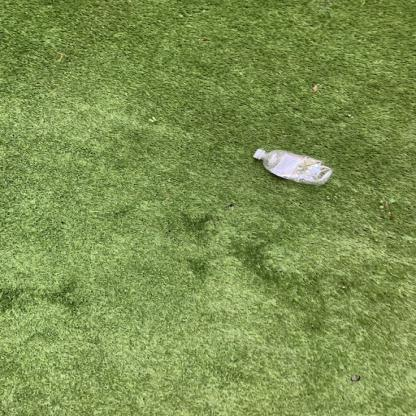trash: (253, 148, 334, 188)
